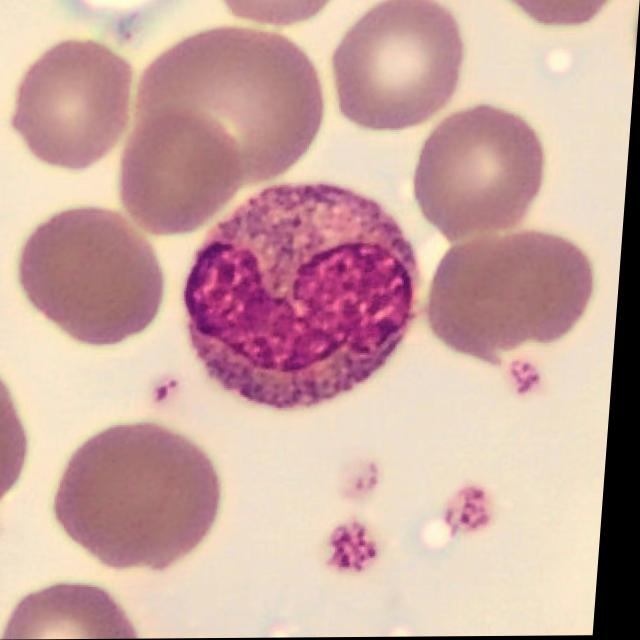Neutrofilo segmentado: (189, 187, 416, 408)
